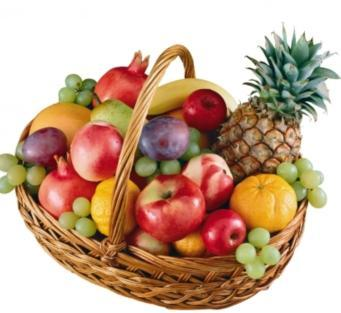apple: (136, 174, 204, 241), (68, 123, 122, 182), (181, 88, 226, 131), (205, 209, 249, 250)
